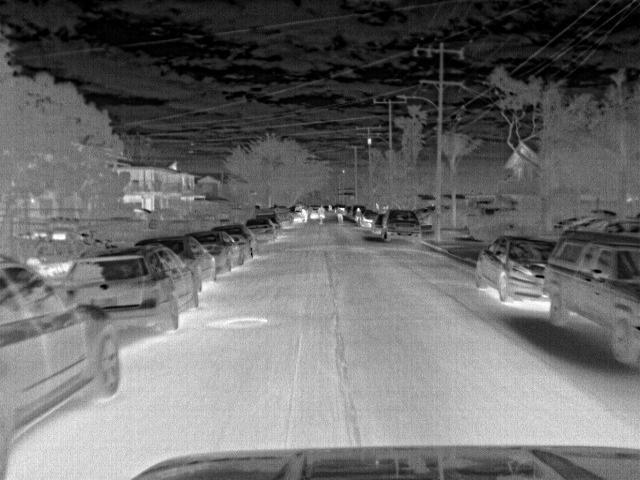car: (3, 252, 122, 458), (541, 235, 640, 365), (68, 238, 204, 331), (479, 237, 557, 305), (132, 235, 216, 288), (186, 230, 246, 274), (215, 224, 254, 258), (382, 210, 421, 242), (244, 218, 279, 244), (266, 205, 296, 227), (363, 211, 380, 229), (372, 212, 384, 232)
person: (353, 205, 365, 228), (316, 204, 328, 225), (297, 206, 310, 224), (335, 206, 347, 225)
